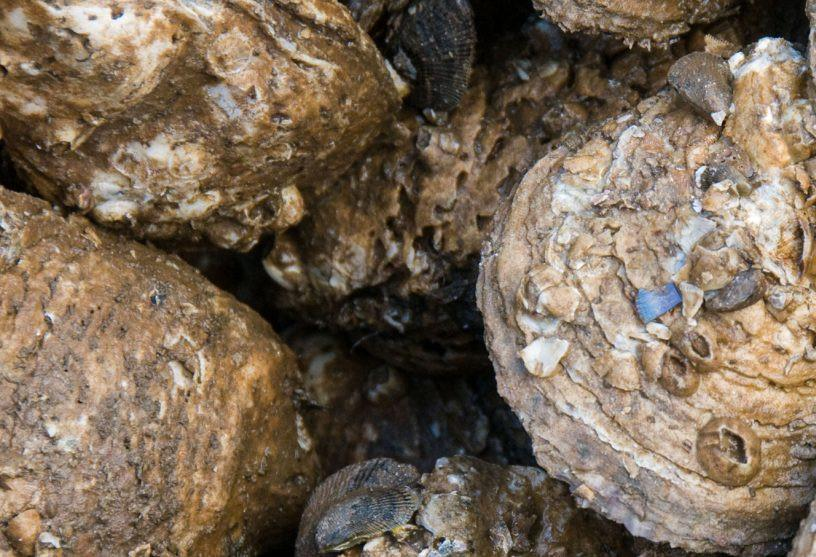Oyster-Closed: (475, 42, 816, 555), (266, 16, 749, 375), (0, 0, 404, 251), (339, 457, 739, 557), (532, 0, 744, 46), (316, 486, 417, 550)
Oyster-Open: (0, 186, 321, 557), (280, 325, 536, 483), (296, 459, 420, 557), (382, 0, 474, 109), (667, 53, 731, 121)
